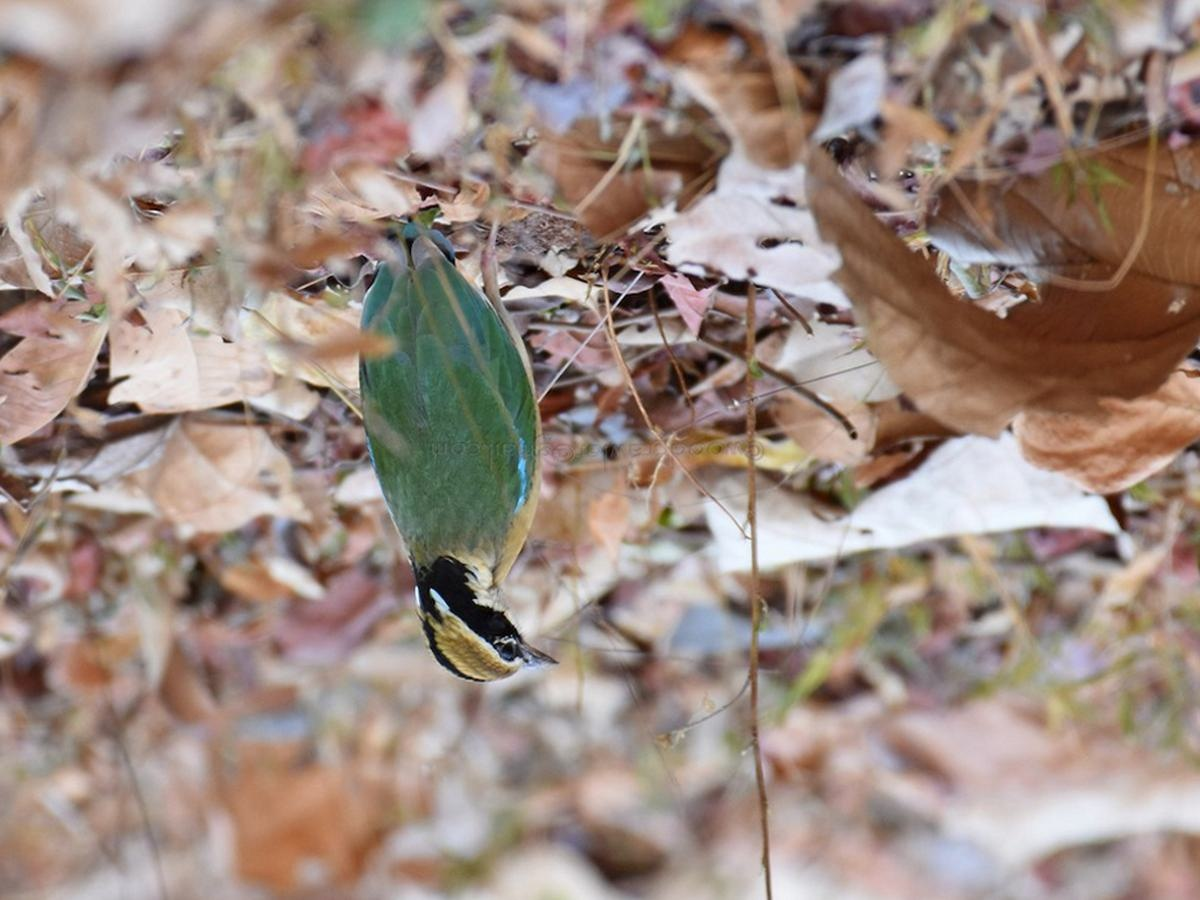pitta: (354, 183, 569, 690)
